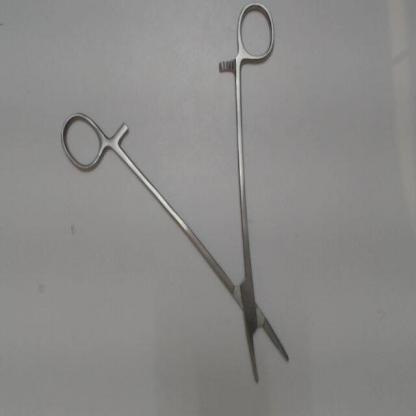8 Mayo Needle Holder: (53, 1, 300, 393)
